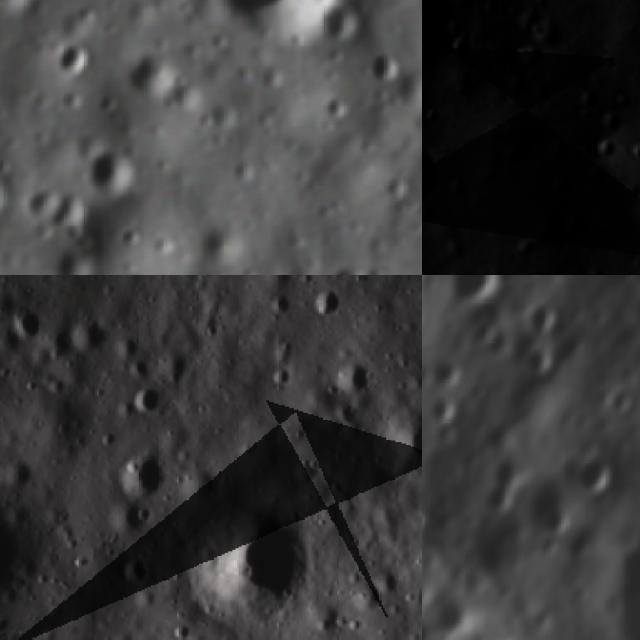crater: (165, 490, 331, 640), (216, 0, 375, 54), (0, 495, 61, 610), (105, 434, 178, 506), (371, 393, 422, 487), (126, 43, 204, 99), (86, 140, 147, 196), (66, 304, 120, 362), (328, 348, 384, 402), (615, 529, 640, 640), (107, 487, 158, 539), (55, 24, 100, 76), (568, 451, 615, 498), (5, 302, 50, 348), (124, 378, 170, 423), (364, 41, 406, 87), (438, 275, 501, 303), (44, 322, 87, 362), (315, 90, 360, 127), (308, 281, 347, 322), (432, 591, 470, 633), (489, 452, 530, 490), (260, 355, 298, 395), (369, 562, 406, 602), (118, 550, 156, 588), (563, 522, 599, 562), (522, 300, 561, 336), (431, 349, 468, 386), (422, 140, 440, 215), (522, 344, 558, 381), (571, 93, 607, 129), (266, 286, 300, 321), (545, 169, 579, 203), (602, 385, 635, 419), (542, 502, 574, 536), (482, 485, 517, 516), (427, 392, 461, 423), (120, 222, 150, 252), (597, 112, 623, 145), (594, 136, 620, 166), (0, 176, 12, 220), (330, 262, 370, 275), (629, 196, 640, 242), (422, 500, 431, 537), (629, 139, 640, 166), (0, 445, 7, 484)
